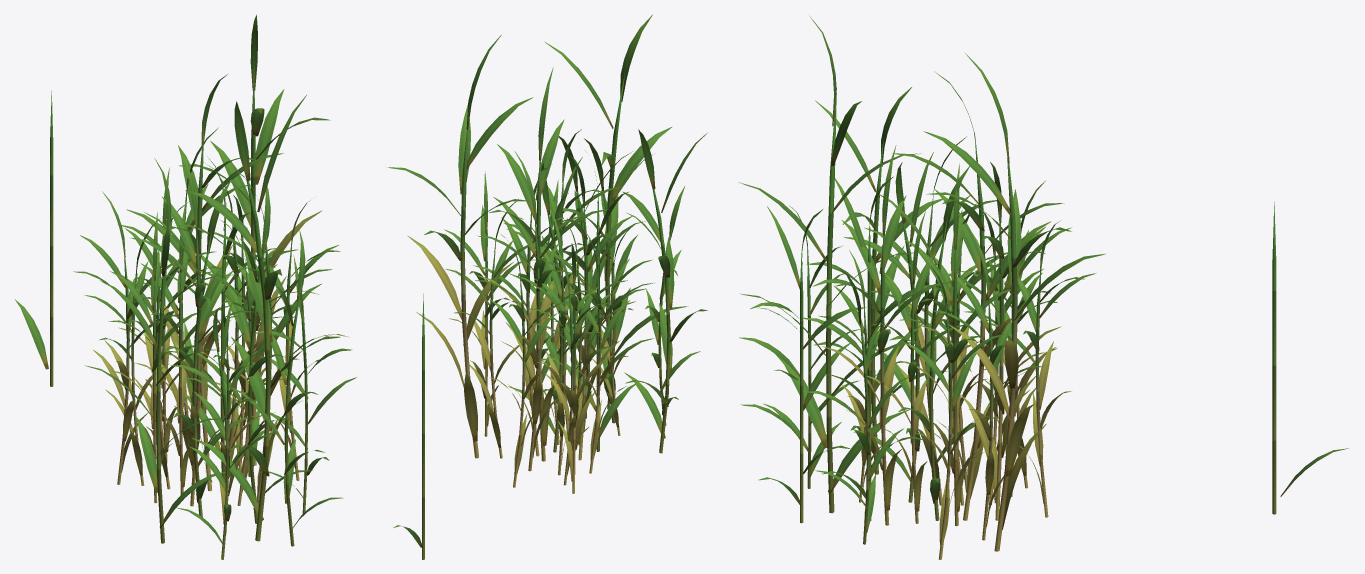
Rendered from reedTry.FBX.
3 views of the same model, side by side, from view 1: azimuth 30°, elevation 25°; view 2: azimuth 150°, elevation 25°; view 3: azimuth 270°, elevation 25° (orthographic). The views are drawn at different scales.
Visible parts, largest first — view 1: group, base, leaf; view 2: group, base; view 3: group, base.
Boxes of the visible parts, x1,y1,x2,y2 form: group: (73,14,356,559); base: (50,90,53,386); leaf: (15,299,48,369); group: (386,14,707,493); base: (422,293,424,559); group: (738,17,1105,559); base: (1272,202,1276,514).
Size of the model in its own units: 133 by 205 by 232.
1 material, 1 textured.
